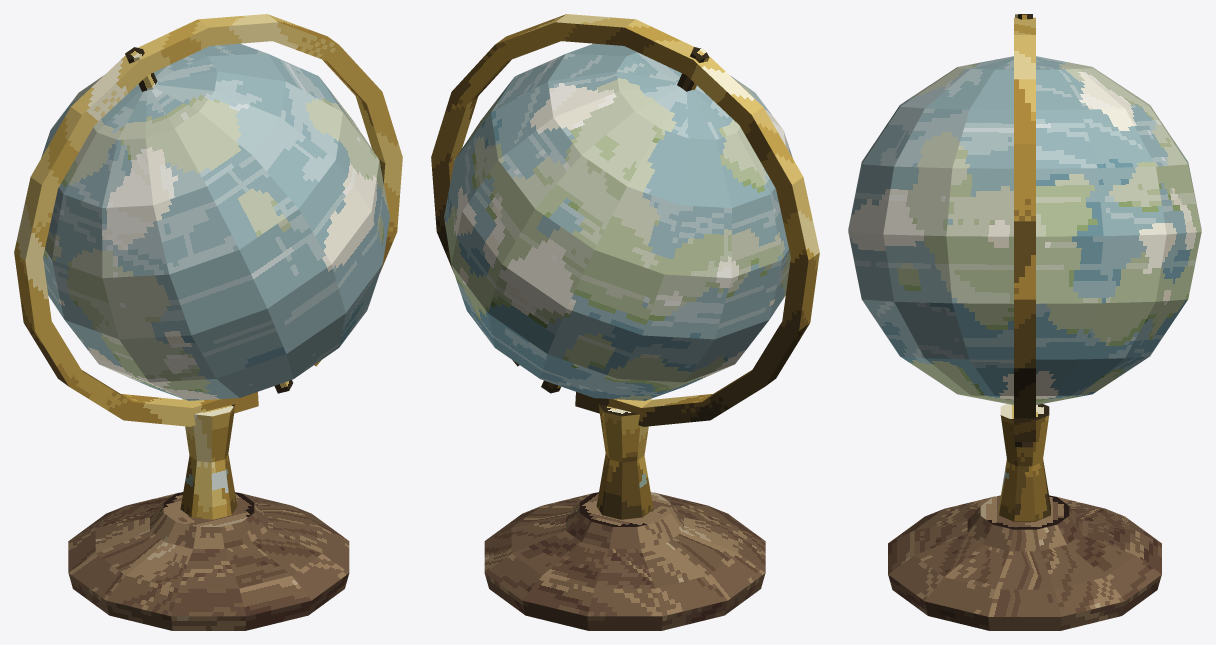
File: globe.glb
3 renders of one model, left to right at view 1: azimuth 30°, elevation 25°; view 2: azimuth 150°, elevation 25°; view 3: azimuth 270°, elevation 25°, orthographic. The views are drawn at different scales.
Parts seen in each view (by area): view 1: ball, base, meridian, stem, axle; view 2: ball, base, meridian, stem, axle; view 3: ball, base, meridian, stem.
Boxes of the visible parts, x1,y1,x2,y2 form: ball: (41, 43, 389, 400); base: (68, 492, 349, 630); meridian: (14, 14, 402, 426); stem: (180, 404, 237, 519); axle: (125, 47, 292, 393); ball: (444, 43, 792, 400); base: (484, 492, 765, 630); meridian: (431, 14, 819, 426); stem: (596, 404, 653, 519); axle: (541, 47, 709, 393); ball: (848, 56, 1201, 404); base: (888, 495, 1161, 630); meridian: (1014, 17, 1035, 441); stem: (999, 404, 1050, 521).
Bounding box in the file's own units: 0.601 × 0.8389 × 0.5.
1 material, 1 textured.
